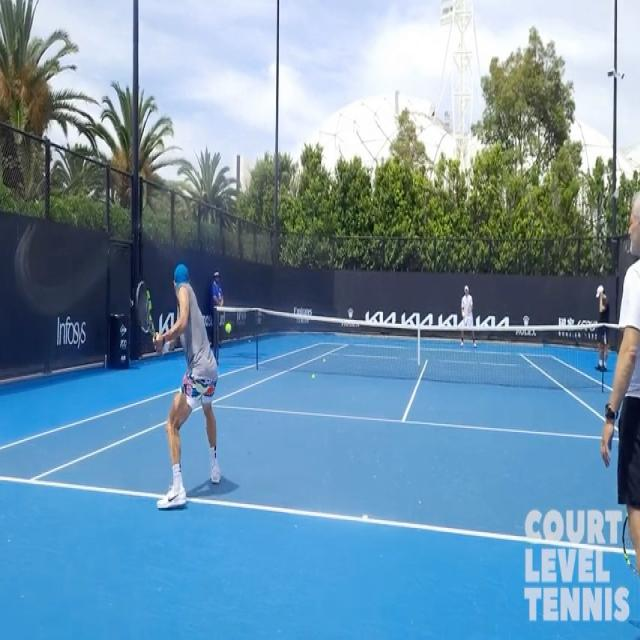backhand-ready: (136, 224, 222, 520)
